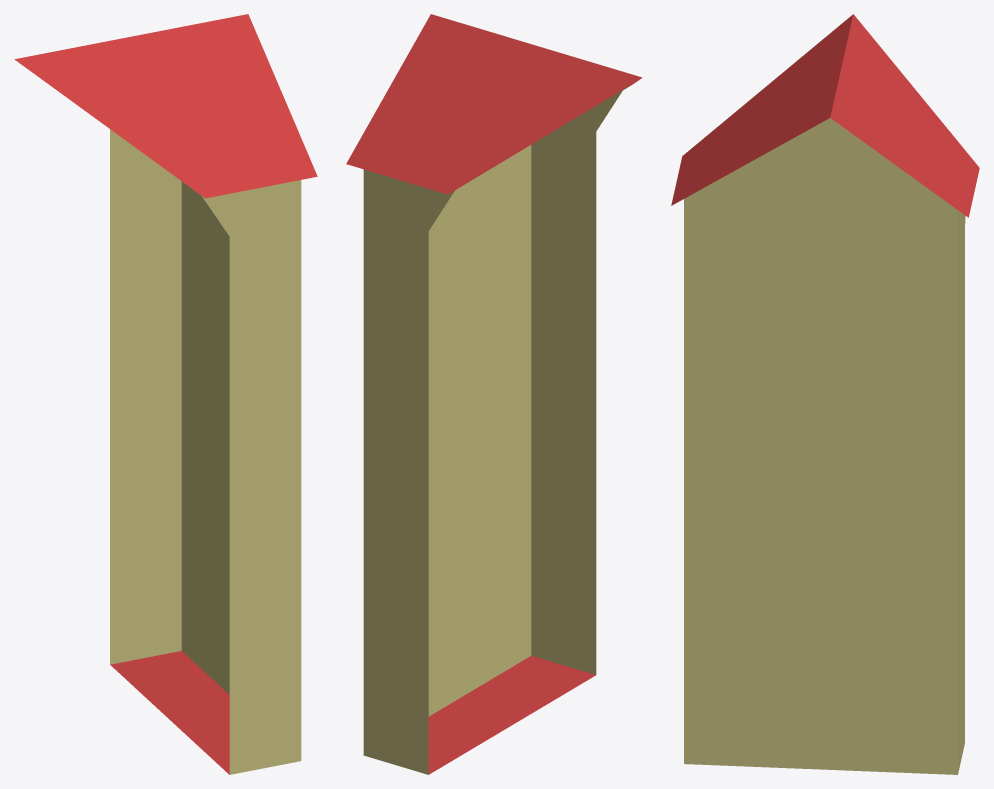
The picture shows the model from 3 angles, left to right: view 1: azimuth 30°, elevation 25°; view 2: azimuth 150°, elevation 25°; view 3: azimuth 270°, elevation 25°; orthographic projection. The views are drawn at different scales.
Size of the model in its own units: 5.43 by 6.48 by 15.21.
